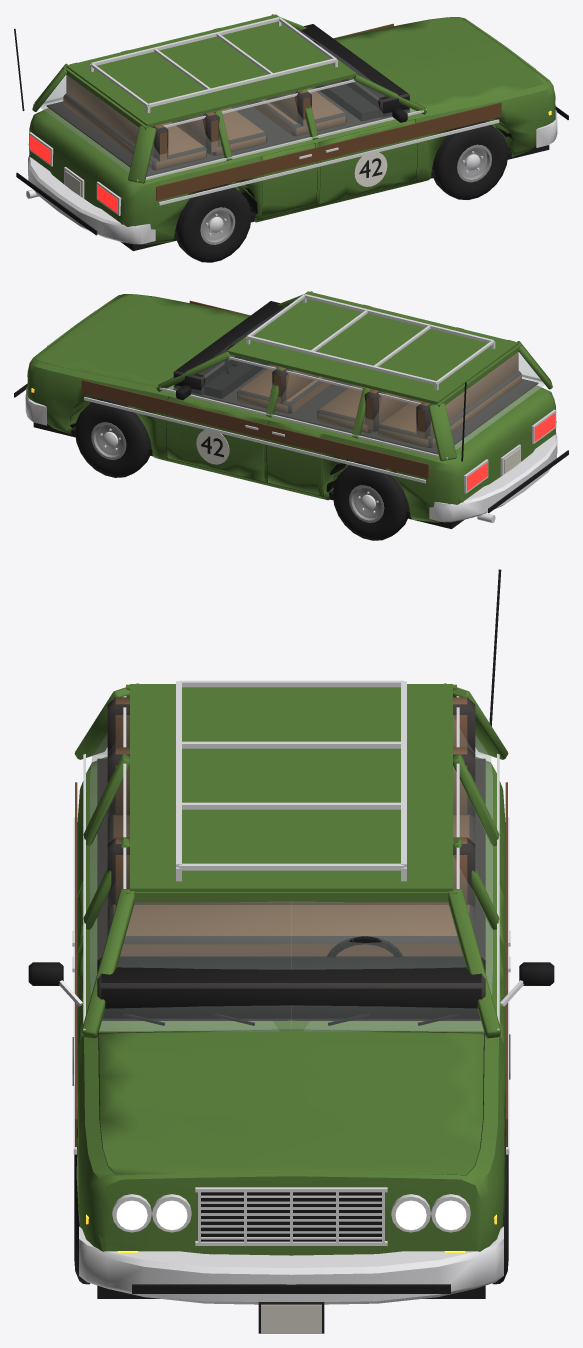
Rendered from car_wagon.glb.
3 renders of one model, top to bottom at view 1: azimuth 30°, elevation 25°; view 2: azimuth 150°, elevation 25°; view 3: azimuth 270°, elevation 25°, orthographic. The views are drawn at different scales.
Visible parts, largest first — view 1: interior, body, roof, glass, hood, door_R, wood_panels, wheel_RR, wheel_FR, pillars, bumper_R, roof_rack (+8 smaller); view 2: interior, body, roof, glass, hood, door_L, wood_panels, wheel_RL, wheel_FL, pillars, bumper_R, roof_rack (+8 smaller); view 3: roof, hood, interior, glass, body, bumper_F, pillars, chrome_details, black_details, roof_rack, bumper_F_rubber, headlamps (+5 smaller).
Part boxes in pixels (x1,y1,x2,y2): interior: [46, 24, 410, 176]; body: [28, 17, 555, 244]; roof: [66, 14, 356, 127]; glass: [40, 30, 416, 176]; hood: [334, 17, 547, 109]; door_R: [260, 119, 417, 217]; wood_panels: [156, 23, 501, 200]; wheel_RR: [175, 184, 251, 262]; wheel_FR: [432, 121, 508, 199]; pillars: [32, 14, 427, 183]; bumper_R: [28, 155, 155, 244]; roof_rack: [90, 17, 337, 113]; interior: [173, 301, 538, 454]; body: [27, 294, 556, 522]; roof: [227, 291, 518, 404]; glass: [167, 307, 544, 454]; hood: [35, 294, 249, 387]; door_L: [166, 396, 323, 495]; wood_panels: [81, 300, 428, 478]; wheel_RL: [332, 461, 409, 540]; wheel_FL: [75, 398, 151, 477]; pillars: [156, 291, 552, 461]; bumper_R: [429, 433, 557, 522]; roof_rack: [246, 294, 495, 390]; roof: [130, 684, 452, 891]; hood: [99, 1029, 483, 1175]; interior: [97, 697, 485, 1020]; glass: [90, 716, 492, 1030]; body: [76, 756, 506, 1255]; bumper_F: [79, 1226, 503, 1304]; pillars: [74, 683, 508, 1038]; chrome_details: [59, 817, 523, 1245]; black_details: [28, 569, 554, 1333]; roof_rack: [176, 680, 406, 881]; bumper_F_rubber: [132, 1284, 450, 1293]; headlamps: [116, 1200, 466, 1230].
Size of the model in its own units: 5.36 by 1.95 by 2.57.
